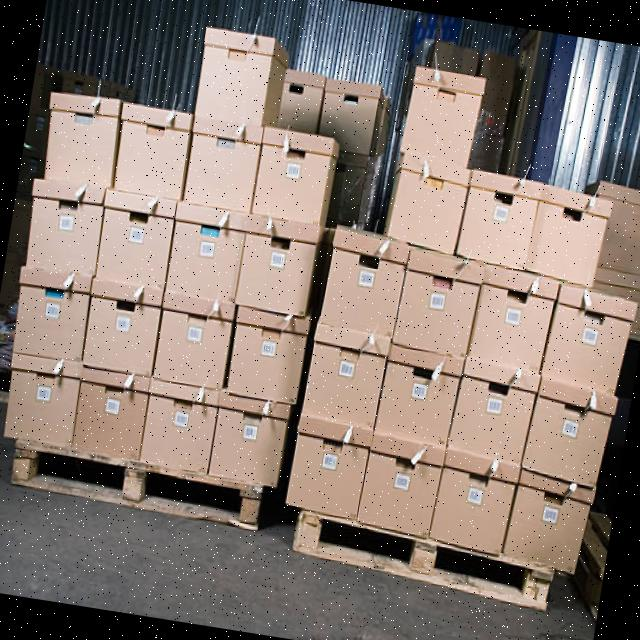Wooden-Pallets: (282, 500, 564, 618), (1, 434, 271, 536)
